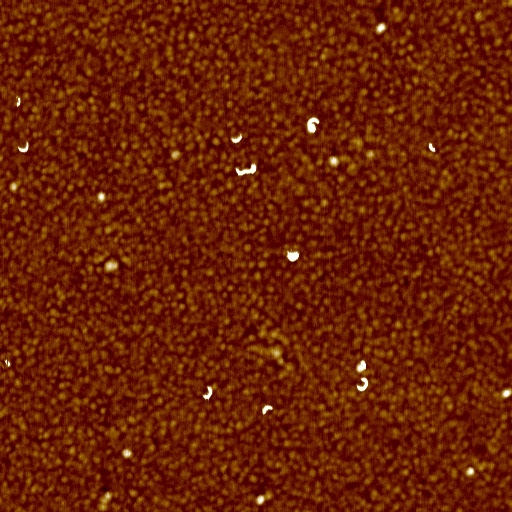-1: (233, 163, 257, 179), (373, 21, 387, 36), (353, 358, 367, 373), (285, 251, 300, 262), (120, 449, 134, 460), (256, 493, 266, 507), (95, 191, 105, 203), (501, 387, 510, 398), (465, 467, 475, 475)
1/4: (230, 131, 245, 146), (259, 404, 274, 417), (425, 141, 437, 154), (13, 95, 24, 109)
2/4: (200, 385, 217, 401), (15, 141, 31, 154)
3/4: (303, 117, 319, 135), (355, 375, 370, 392)
